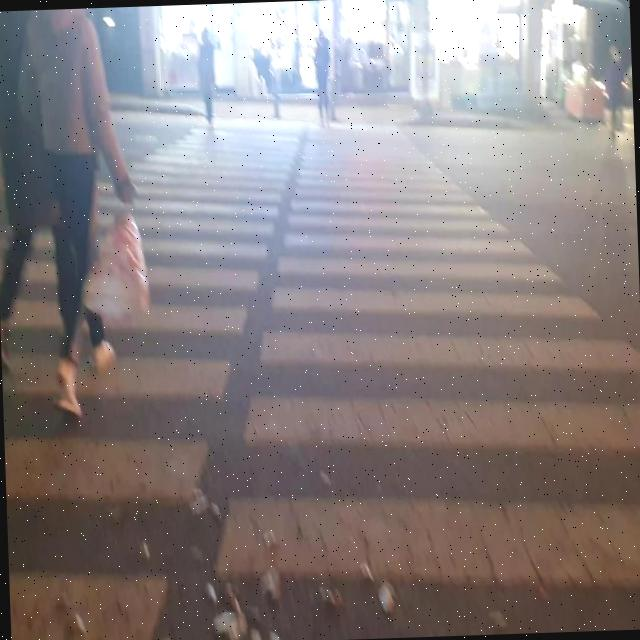crosswalk: (0, 114, 640, 640)
